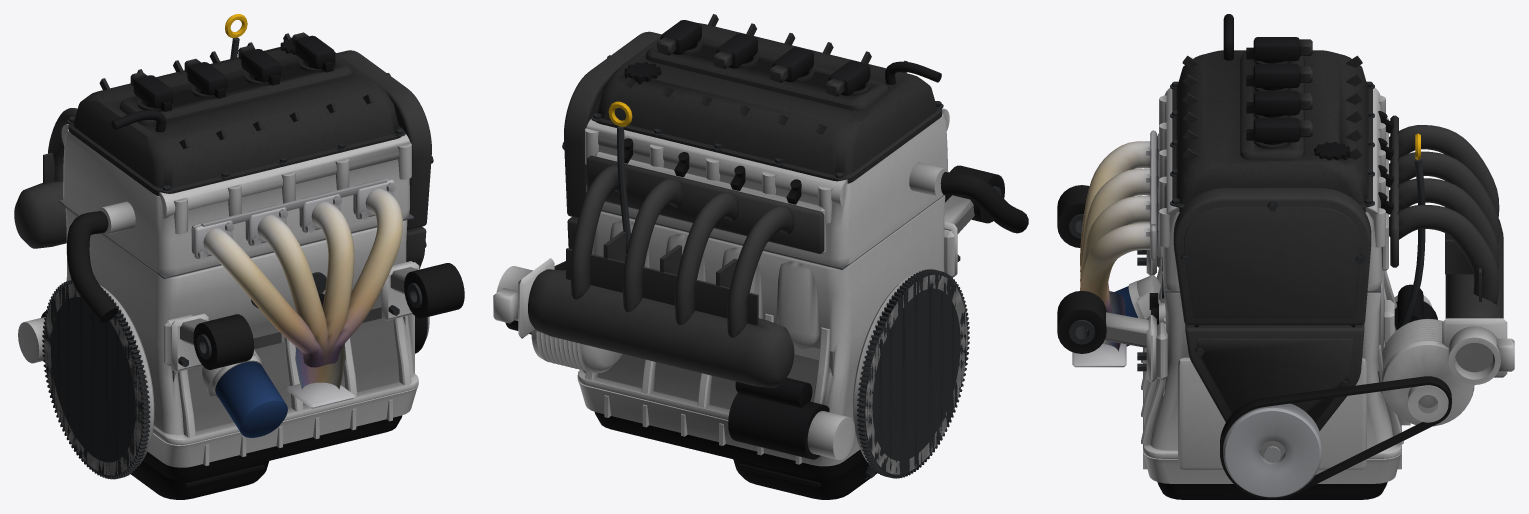
File: engine-hi-v2.glb
3 renders of one model, left to right at view 1: azimuth 30°, elevation 25°; view 2: azimuth 150°, elevation 25°; view 3: azimuth 270°, elevation 25°, orthographic. The views are drawn at different scales.
Parts seen in each view (by area): view 1: valve_cover_geo, block_geo, exhaust_manifold_geo, head_geo, flywheel_geo, oil_pan_geo, timing_cover_geo, intake_manifold_geo, mount_rear_geo, oil_filter_geo, mount_front_geo, coolant_hose_geo (+6 smaller); view 2: intake_manifold_geo, valve_cover_geo, block_geo, head_geo, flywheel_geo, oil_pan_geo, starter_geo, timing_cover_geo, coolant_hose_geo, alternator_geo, mount_rear_geo, dipstick_geo (+4 smaller); view 3: timing_cover_geo, valve_cover_geo, intake_manifold_geo, block_geo, exhaust_manifold_geo, crank_pulley_geo, alternator_geo, head_geo, oil_pan_geo, mount_front_geo, accessory_belt_geo, mount_rear_geo (+7 smaller).
Boxes of the visible parts, x1,y1,x2,y2 form: valve_cover_geo: (67, 33, 405, 195); block_geo: (65, 207, 418, 444); exhaust_manifold_geo: (194, 179, 402, 408); head_geo: (61, 124, 411, 275); flywheel_geo: (42, 280, 154, 479); oil_pan_geo: (131, 384, 418, 499); timing_cover_geo: (337, 50, 433, 269); intake_manifold_geo: (14, 108, 77, 248); mount_rear_geo: (171, 313, 254, 372); oil_filter_geo: (211, 355, 287, 437); mount_front_geo: (381, 262, 464, 320); coolant_hose_geo: (67, 211, 118, 322); intake_manifold_geo: (493, 155, 824, 387); valve_cover_geo: (591, 14, 943, 183); block_geo: (577, 195, 954, 420); head_geo: (585, 108, 949, 266); flywheel_geo: (853, 269, 969, 478); oil_pan_geo: (577, 380, 877, 499); starter_geo: (728, 377, 854, 459); timing_cover_geo: (562, 31, 661, 248); coolant_hose_geo: (940, 172, 1028, 233); alternator_geo: (531, 270, 622, 373); mount_rear_geo: (944, 165, 1004, 277); dipstick_geo: (608, 101, 632, 253); timing_cover_geo: (1173, 188, 1371, 431); valve_cover_geo: (1170, 14, 1374, 212); intake_manifold_geo: (1389, 115, 1514, 384); block_geo: (1136, 255, 1403, 469); exhaust_manifold_geo: (1072, 130, 1156, 367); crank_pulley_geo: (1223, 403, 1321, 497); alternator_geo: (1381, 318, 1474, 426); head_geo: (1157, 88, 1388, 291); oil_pan_geo: (1143, 390, 1401, 499); mount_front_geo: (1057, 290, 1156, 382); accessory_belt_geo: (1220, 376, 1451, 499); mount_rear_geo: (1057, 185, 1156, 275).
Size of the model in its own units: 0.608 by 0.596 by 0.629.
19 materials, 6 textured.
